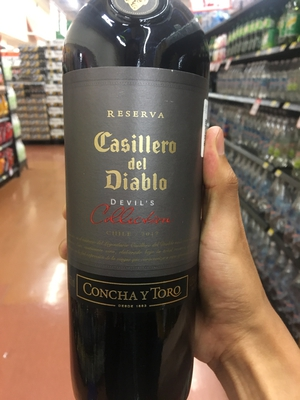casillero del diablo devils collection rojo: (60, 14, 207, 400)
